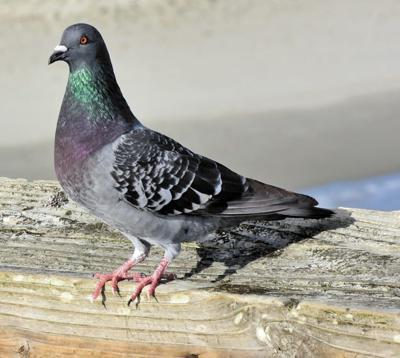Flying Rat: (46, 21, 310, 298)
